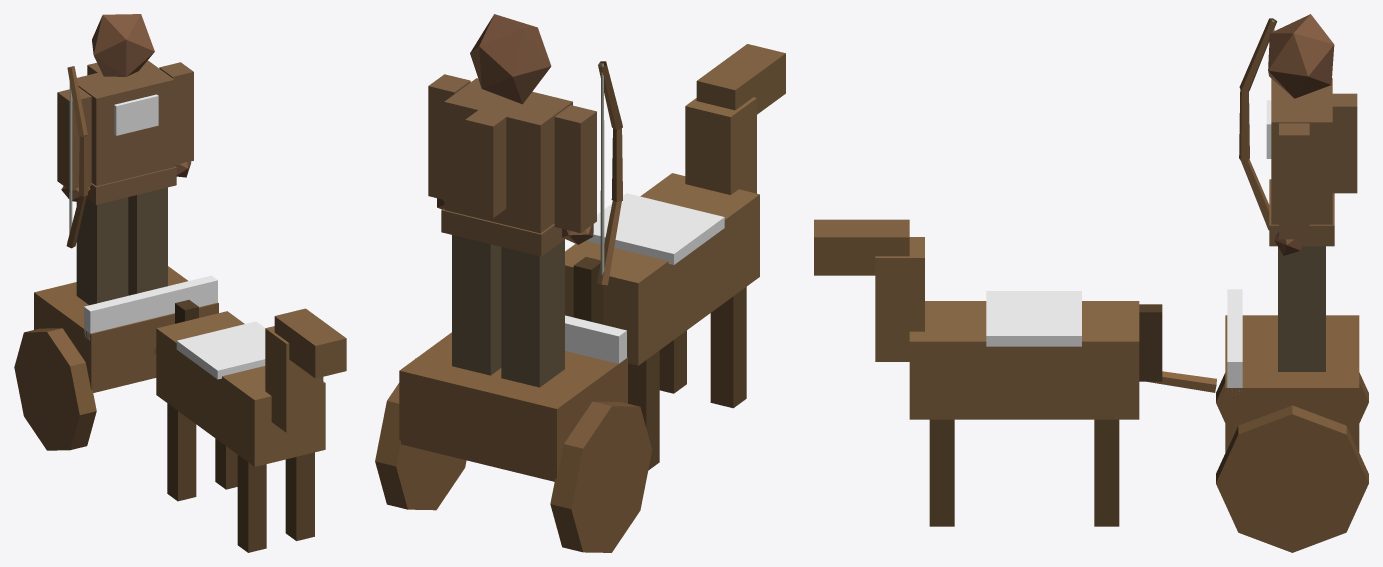
The model's file is Chariot Archer.glb.
3 renders of one model, left to right at view 1: azimuth 30°, elevation 25°; view 2: azimuth 150°, elevation 25°; view 3: azimuth 270°, elevation 25°, orthographic. The views are drawn at different scales.
Parts seen in each view (by area): view 1: Units_Chariot Archer; view 2: Units_Chariot Archer; view 3: Units_Chariot Archer.
Boxes of the visible parts, x1=… form: Units_Chariot Archer: x1=14, y1=14, x2=346, y2=552; Units_Chariot Archer: x1=375, y1=14, x2=785, y2=552; Units_Chariot Archer: x1=814, y1=14, x2=1368, y2=552.
Bounding box in the file's own units: 0.112 × 0.2795 × 0.29.
